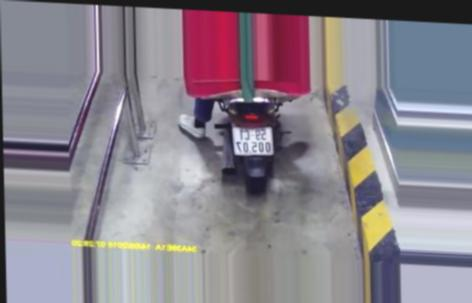License_Plate: (229, 123, 279, 163)
